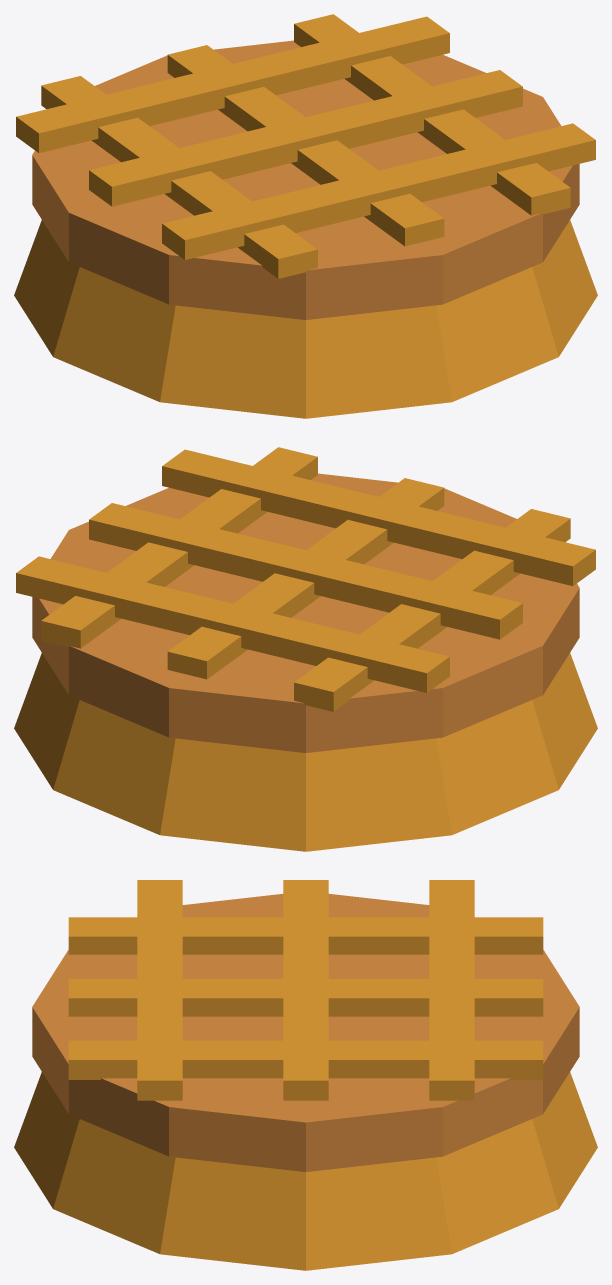
The model's file is good_pie.glb.
The picture shows the model from 3 angles, top to bottom: view 1: azimuth 30°, elevation 25°; view 2: azimuth 150°, elevation 25°; view 3: azimuth 270°, elevation 25°; orthographic projection.
Parts seen in each view (by area): view 1: good_pie; view 2: good_pie; view 3: good_pie.
Boxes of the visible parts, x1,y1,x2,y2 form: good_pie: (14, 14, 597, 418); good_pie: (14, 447, 597, 851); good_pie: (14, 880, 597, 1270).
Bounding box in the file's own units: 0.32 × 0.101 × 0.32.
